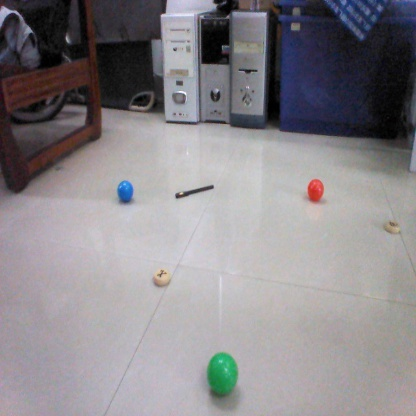ball: (206, 353, 236, 393), (305, 179, 326, 202), (115, 178, 137, 198)
chess: (151, 267, 174, 283), (384, 220, 401, 234)
pen: (175, 183, 214, 198)
